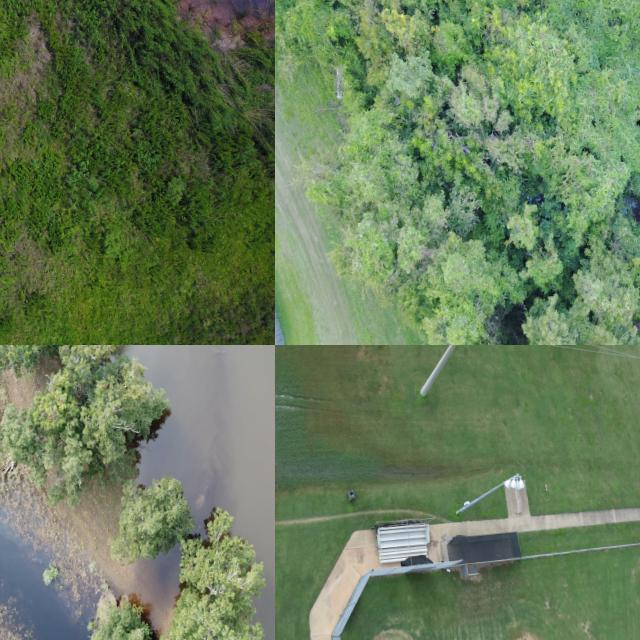fire: (124, 345, 275, 640)
